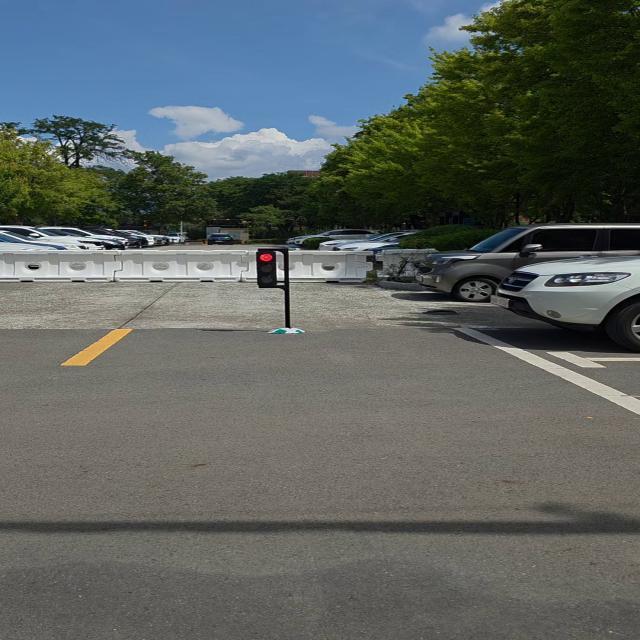red: (251, 248, 284, 288)
